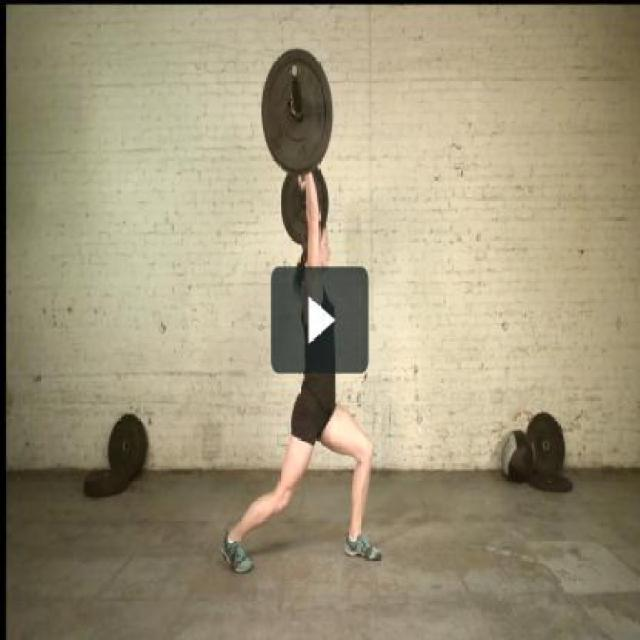barbell: (257, 40, 337, 183)
